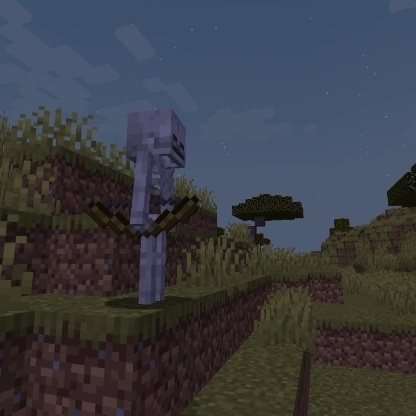skeleton: (83, 102, 205, 309)
